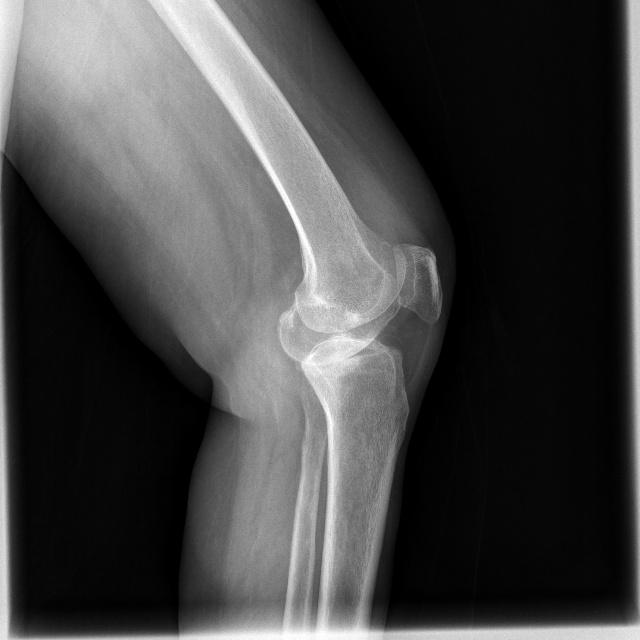Knee: (277, 240, 442, 396)
